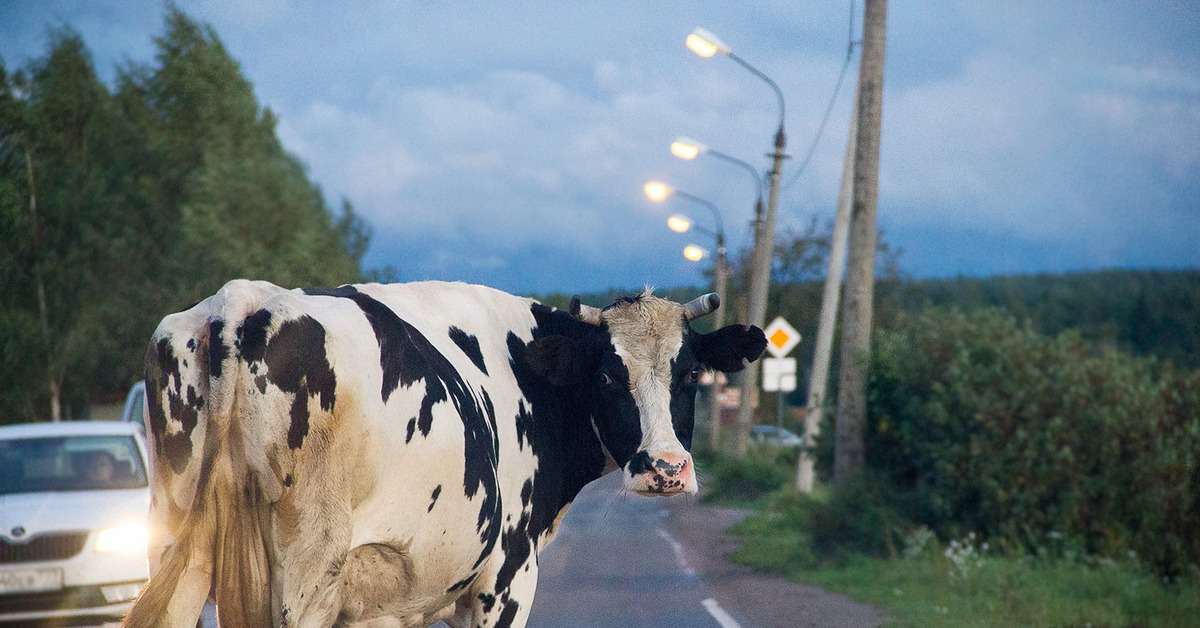otomobil: (120, 268, 782, 627)
yaya_gecidi: (0, 380, 179, 627)
